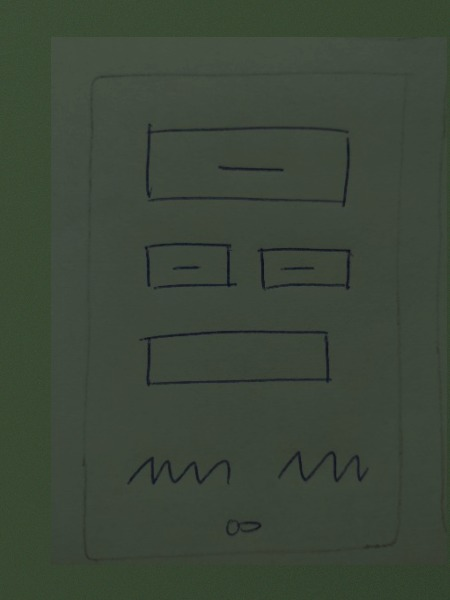button: (135, 115, 361, 216), (254, 240, 358, 299), (139, 236, 240, 295)
switch: (213, 507, 275, 544)
text: (115, 442, 242, 493), (273, 442, 373, 492)
text_input: (133, 321, 341, 395)
